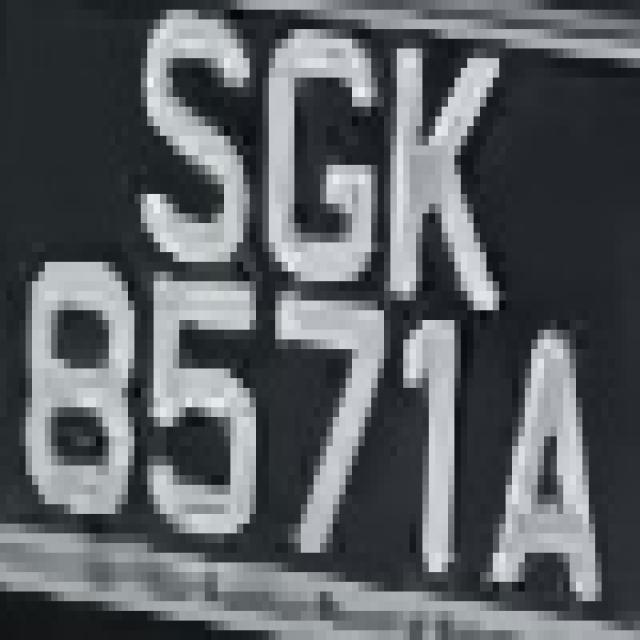1: (403, 262, 461, 591)
5: (141, 243, 275, 572)
7: (262, 281, 384, 582)
8: (6, 223, 134, 553)
A: (486, 291, 621, 630)
G: (244, 29, 390, 310)
K: (390, 19, 500, 330)
S: (128, 10, 250, 310)
